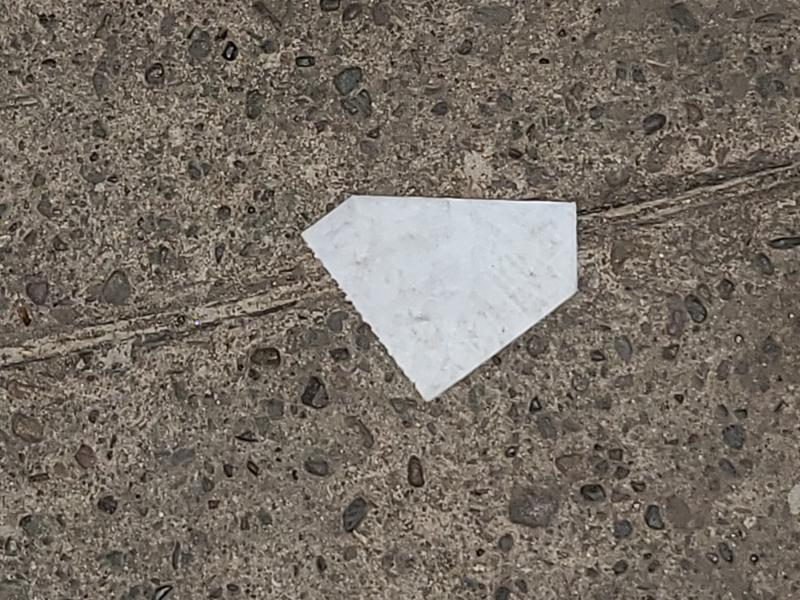papel: (300, 195, 579, 403)
